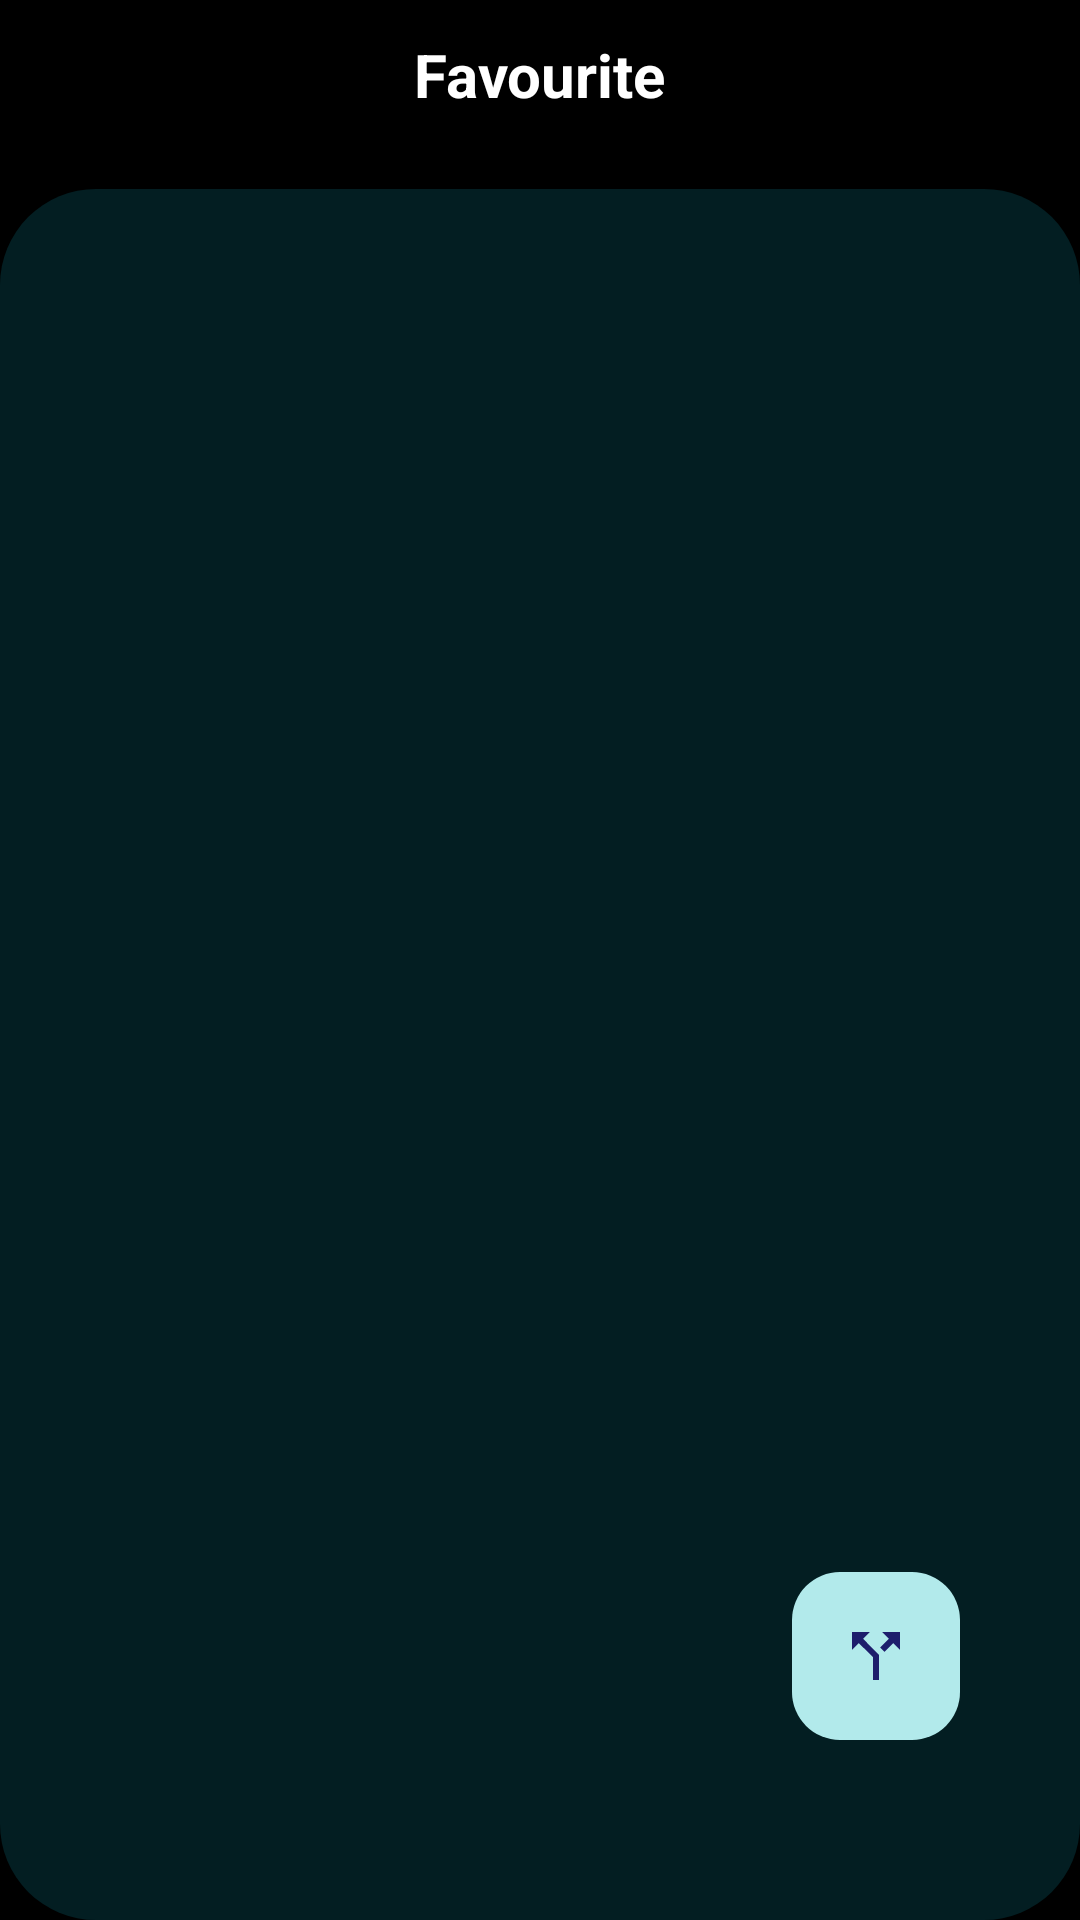

Named icons in this screenshot (1080×1920) and their centers, (x,y):
call split: (876,1656)
